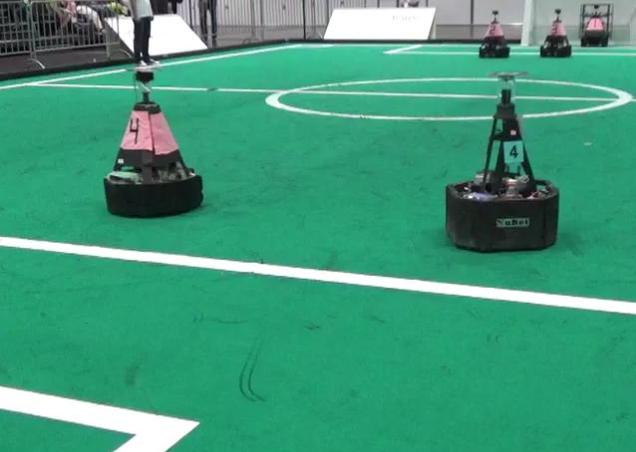robot: (445, 69, 559, 252), (99, 65, 207, 219), (475, 7, 511, 58), (537, 8, 573, 57), (579, 7, 612, 48)
